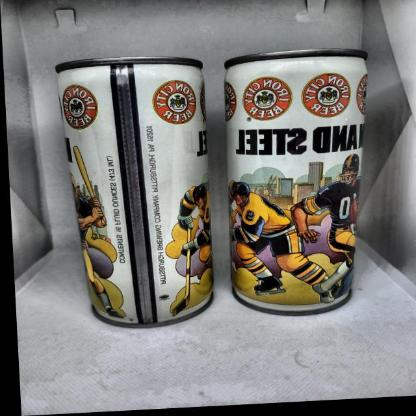Can: (214, 50, 382, 324), (54, 55, 214, 334)
